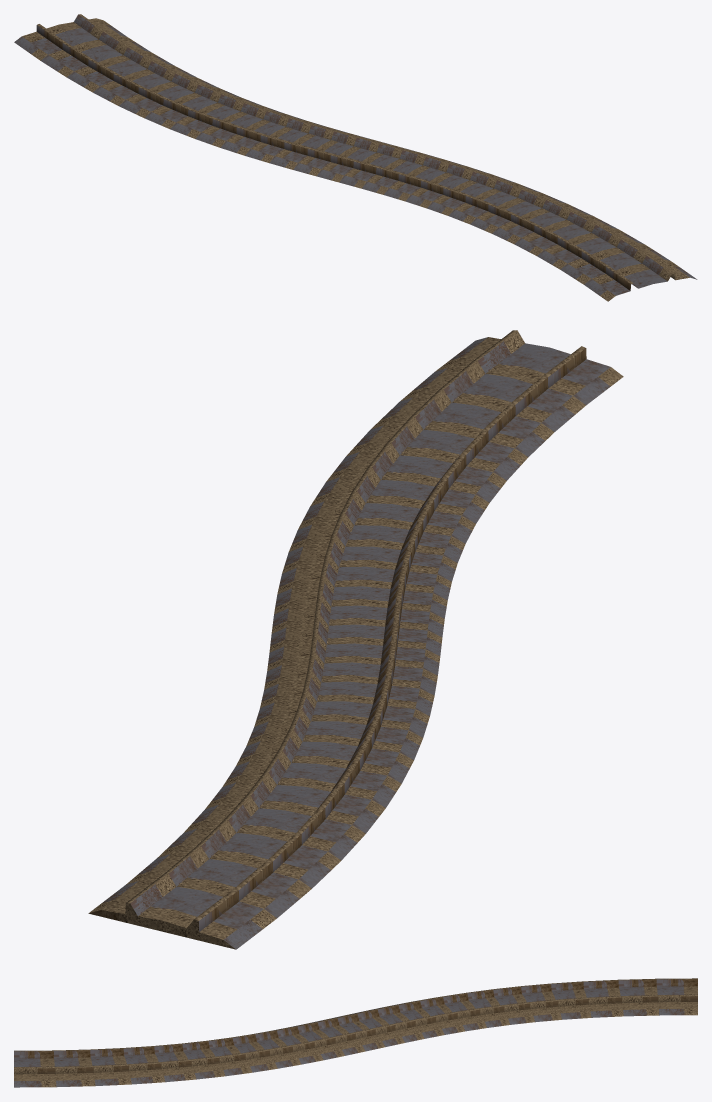
The model's file is AlternateTrack_Left_1_LOD2.fbx.
3 renders of one model, top to bottom at view 1: azimuth 30°, elevation 25°; view 2: azimuth 150°, elevation 25°; view 3: azimuth 270°, elevation 25°, orthographic. The views are drawn at different scales.
Visible parts, largest first — view 1: AlternateTrack_Left_1; view 2: AlternateTrack_Left_1; view 3: AlternateTrack_Left_1.
Boxes of the visible parts, x1,y1,x2,y2 form: AlternateTrack_Left_1: (14, 14, 697, 301); AlternateTrack_Left_1: (88, 330, 623, 949); AlternateTrack_Left_1: (14, 978, 697, 1087).
Bounding box in the file's own units: 300 × 13.15 × 799.
1 material, 1 textured.
